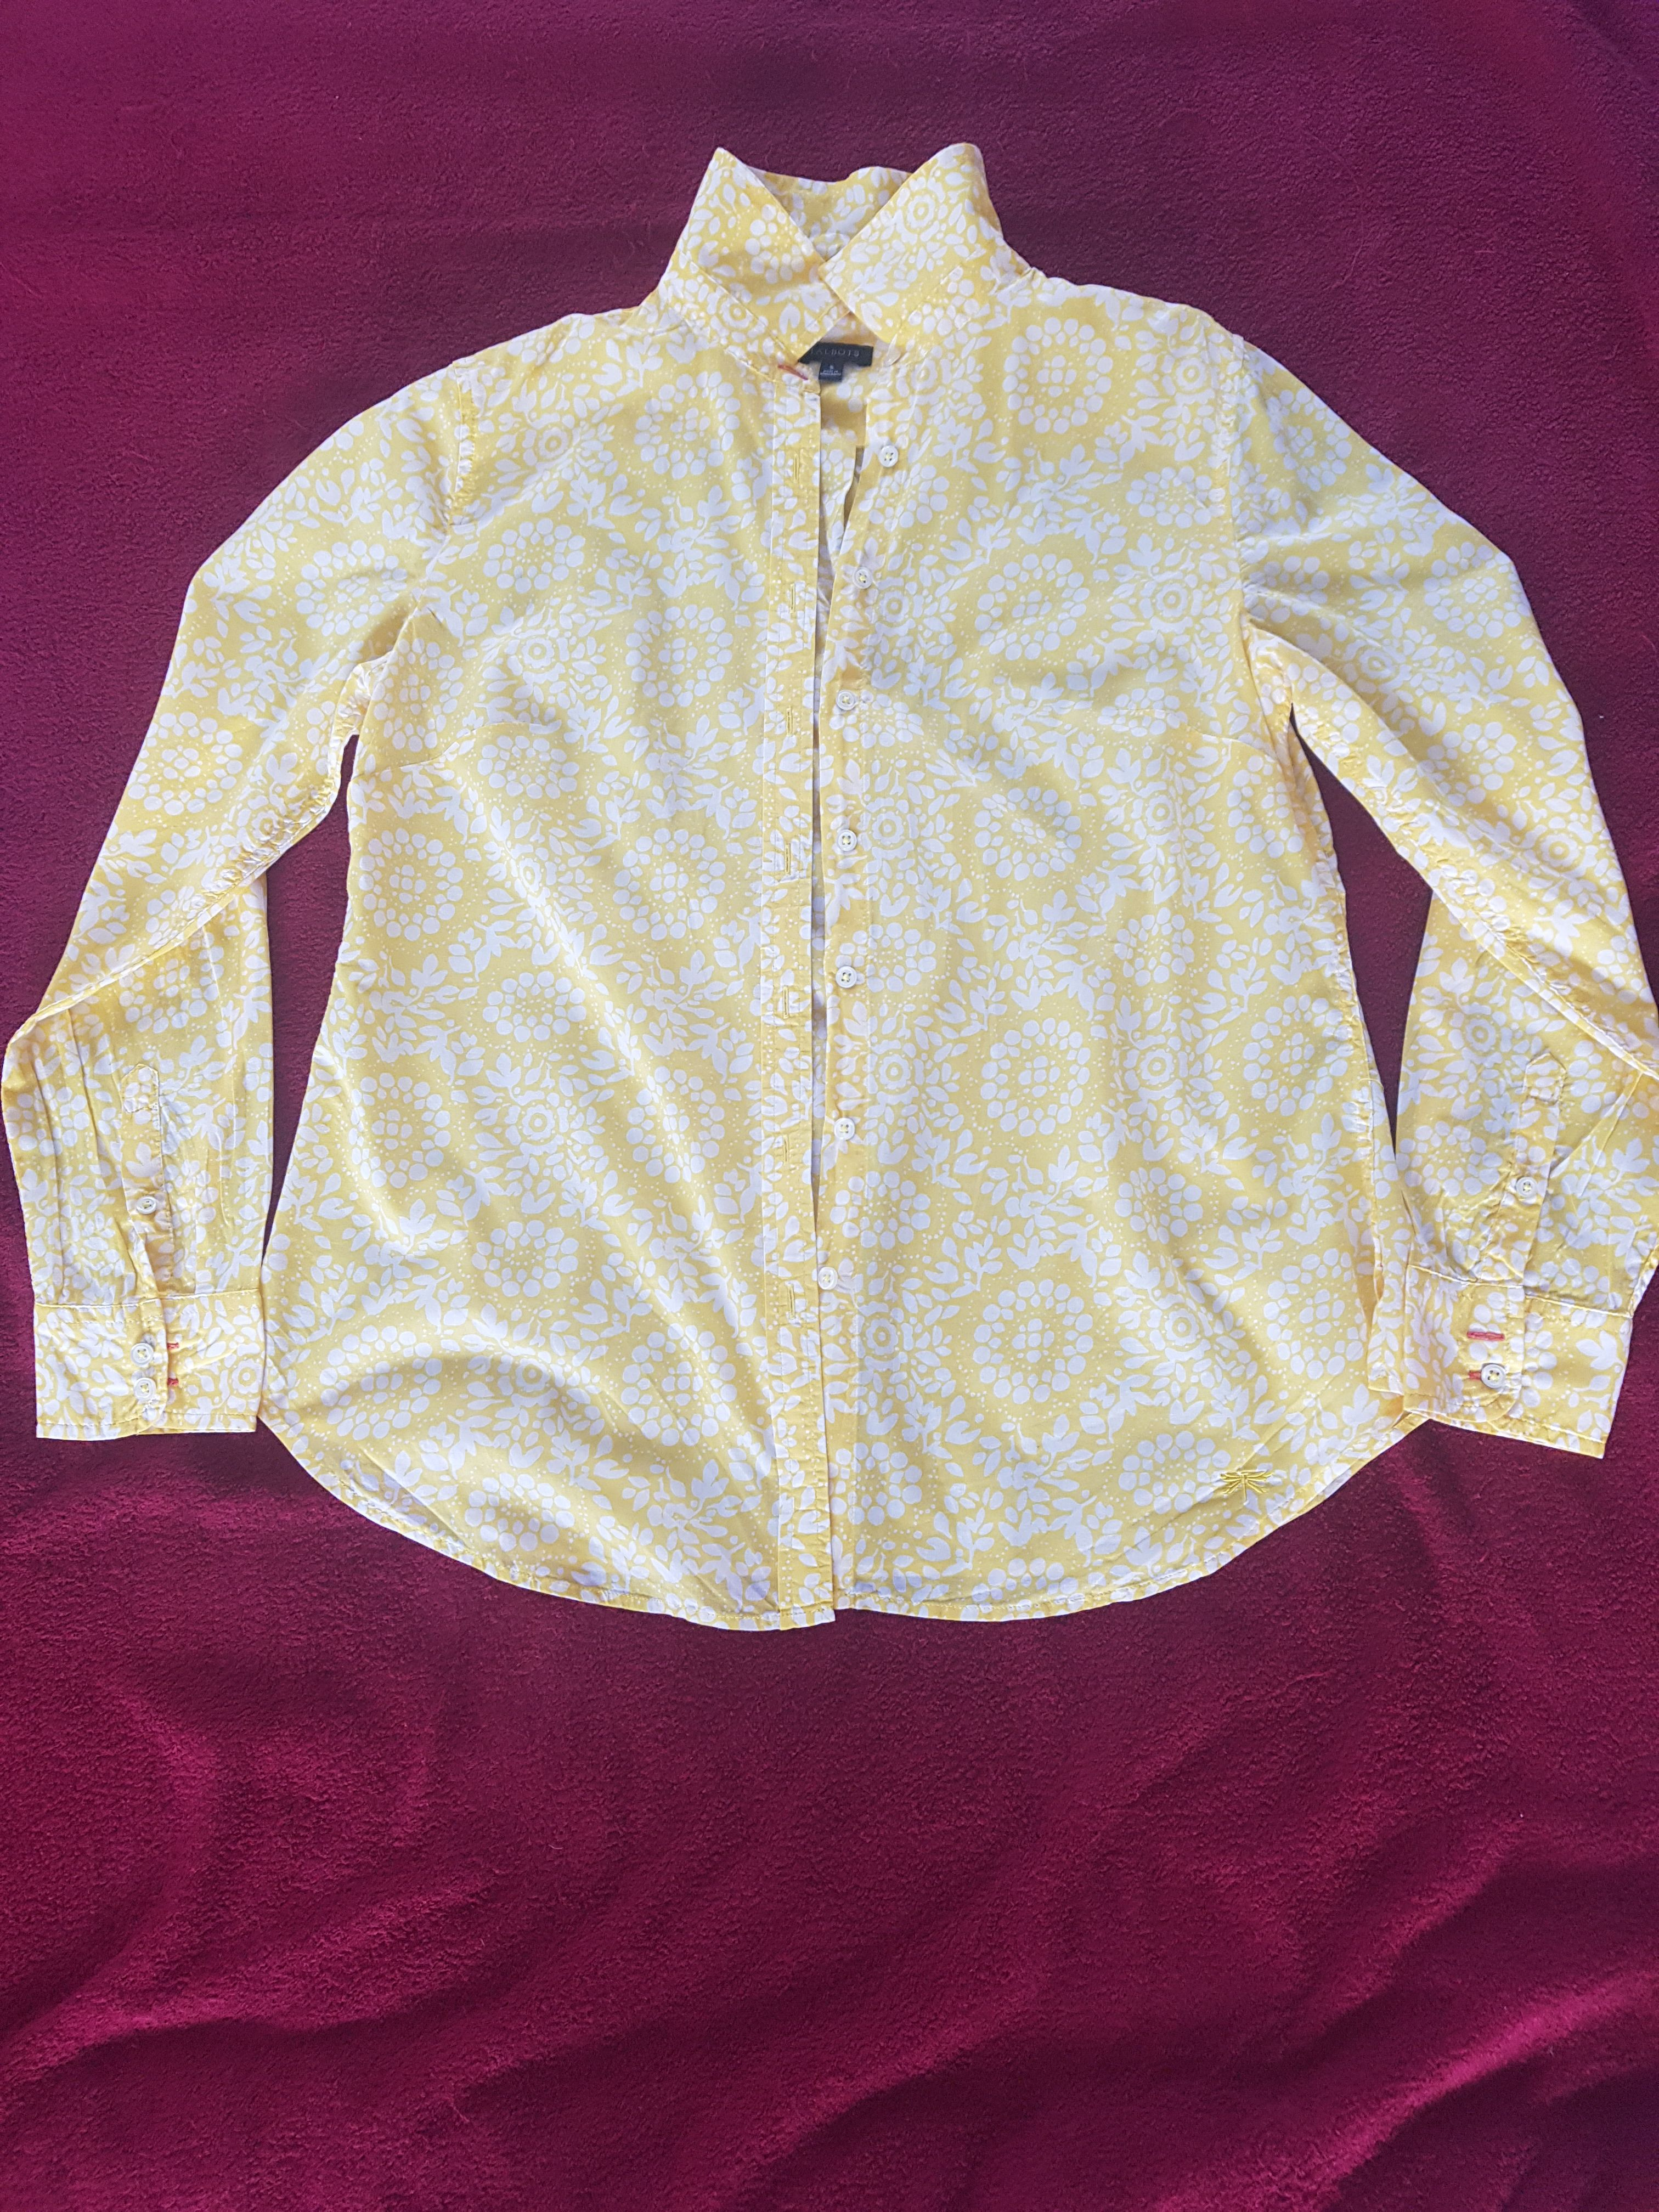clothes: (19, 150, 1647, 1625)
